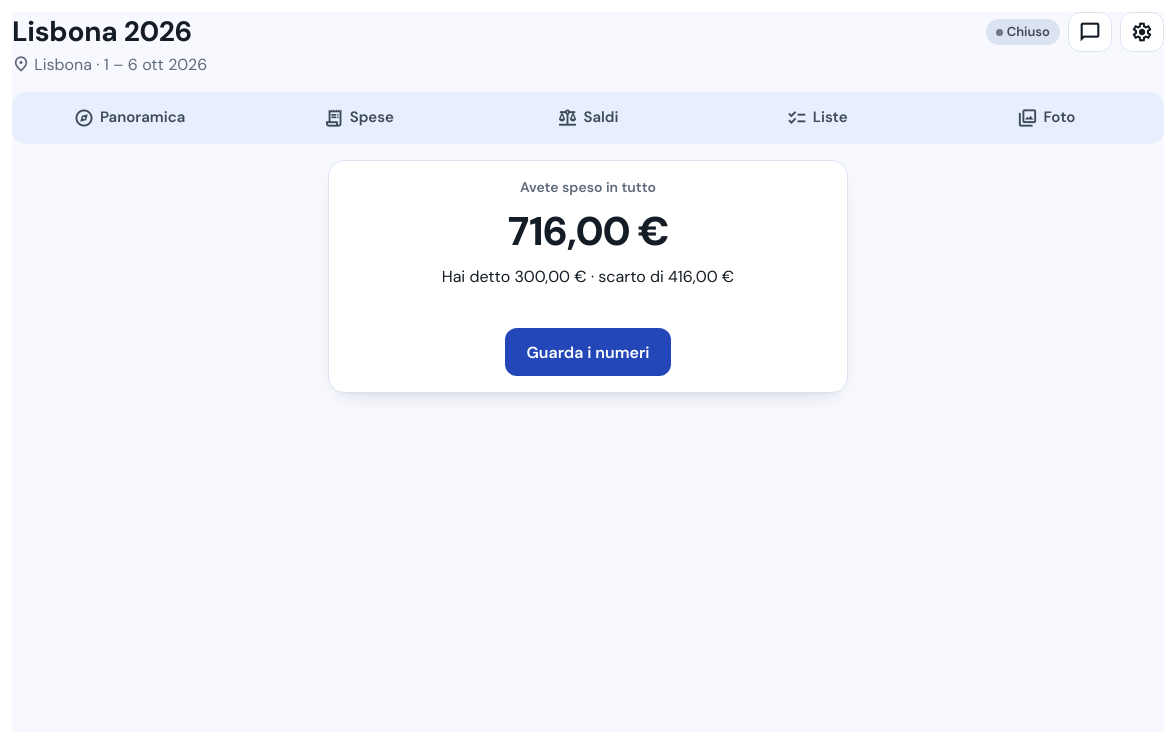
Test: con 1 notte, 1 persona e 1 spesa i testi sono al singolare
The image size is (1164, 732).
Click the button "Guarda i numeri" at coordinates (588, 352), box [505,328,670,376]
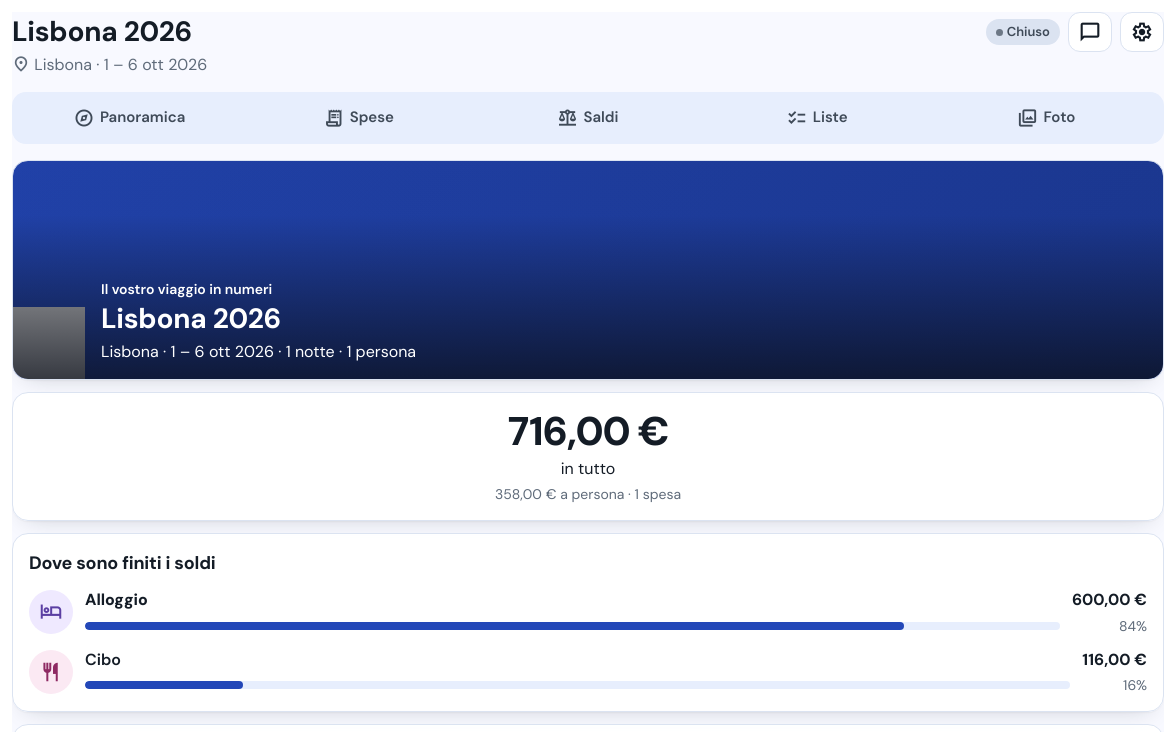
Now the text "Lisbona · 1 – 6 ott 2026 · 1 notte · 1 persona" is shown, box [101,340,416,363]
Now the text "358,00 € a persona · 1 spesa" is shown, box [495,484,681,504]
